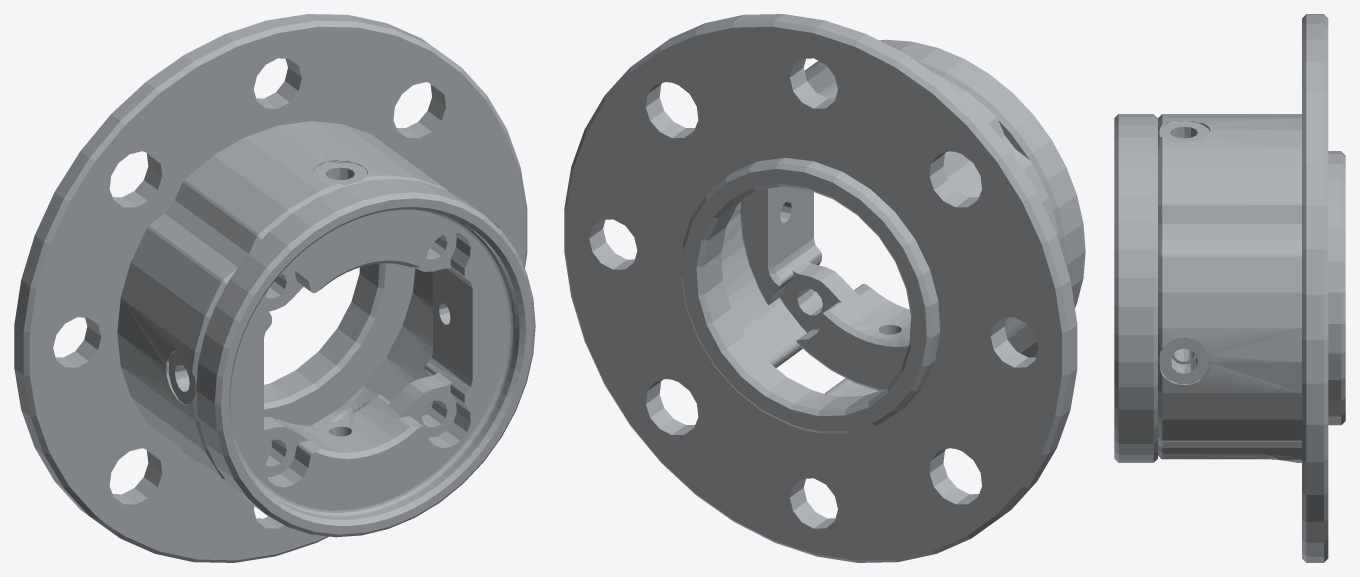
The model's file is flange_link_vis.obj.
3 views of the same model, side by side, from view 1: azimuth 30°, elevation 25°; view 2: azimuth 150°, elevation 25°; view 3: azimuth 270°, elevation 25° (orthographic). The views are drawn at different scales.
Parts seen in each view (by area): view 1: flange_link; view 2: flange_link; view 3: flange_link.
Boxes of the visible parts, left/top/right/bottom form: flange_link: left=14, top=14, right=535, bottom=562; flange_link: left=564, top=14, right=1085, bottom=562; flange_link: left=1114, top=14, right=1345, bottom=562.
Bounding box in the file's own units: 0.0628 × 0.063 × 0.0265.
1 material, 1 textured.
